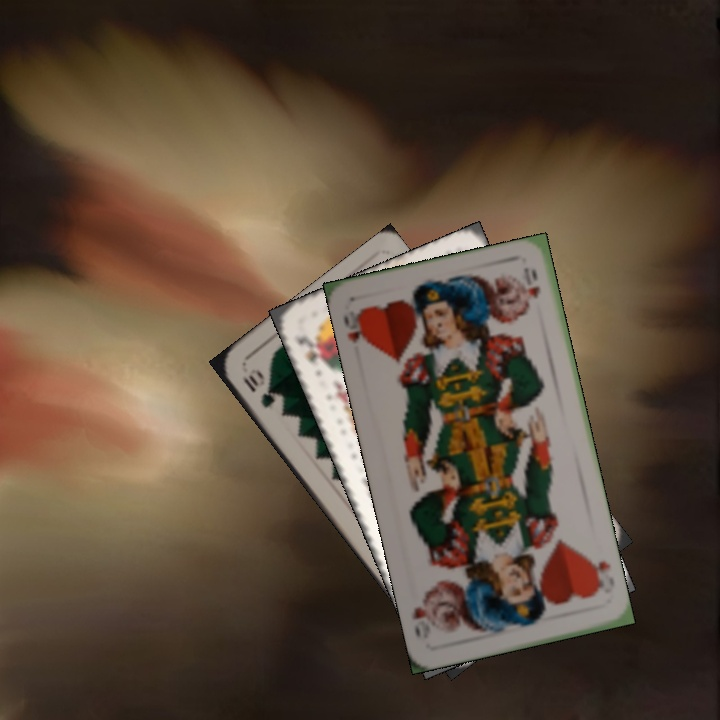G10: (238, 365, 278, 411)
HO: (583, 549, 613, 599), (339, 305, 372, 346)
SK: (292, 331, 330, 372)
